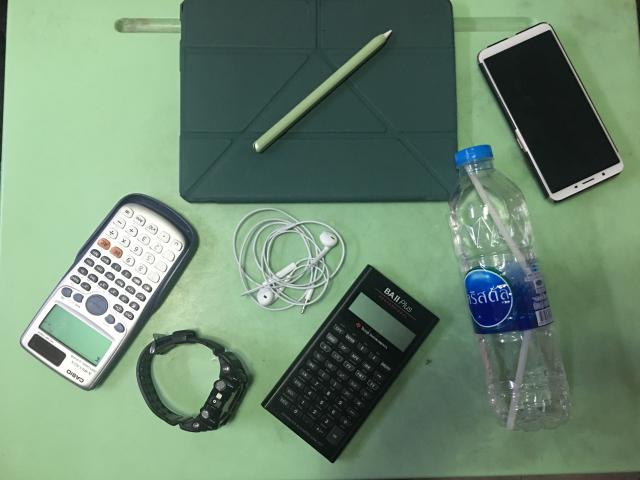Mobile phone: (478, 22, 624, 201)
Watch: (138, 330, 248, 432)
bottle: (449, 145, 571, 431)
wire: (232, 208, 345, 310)
